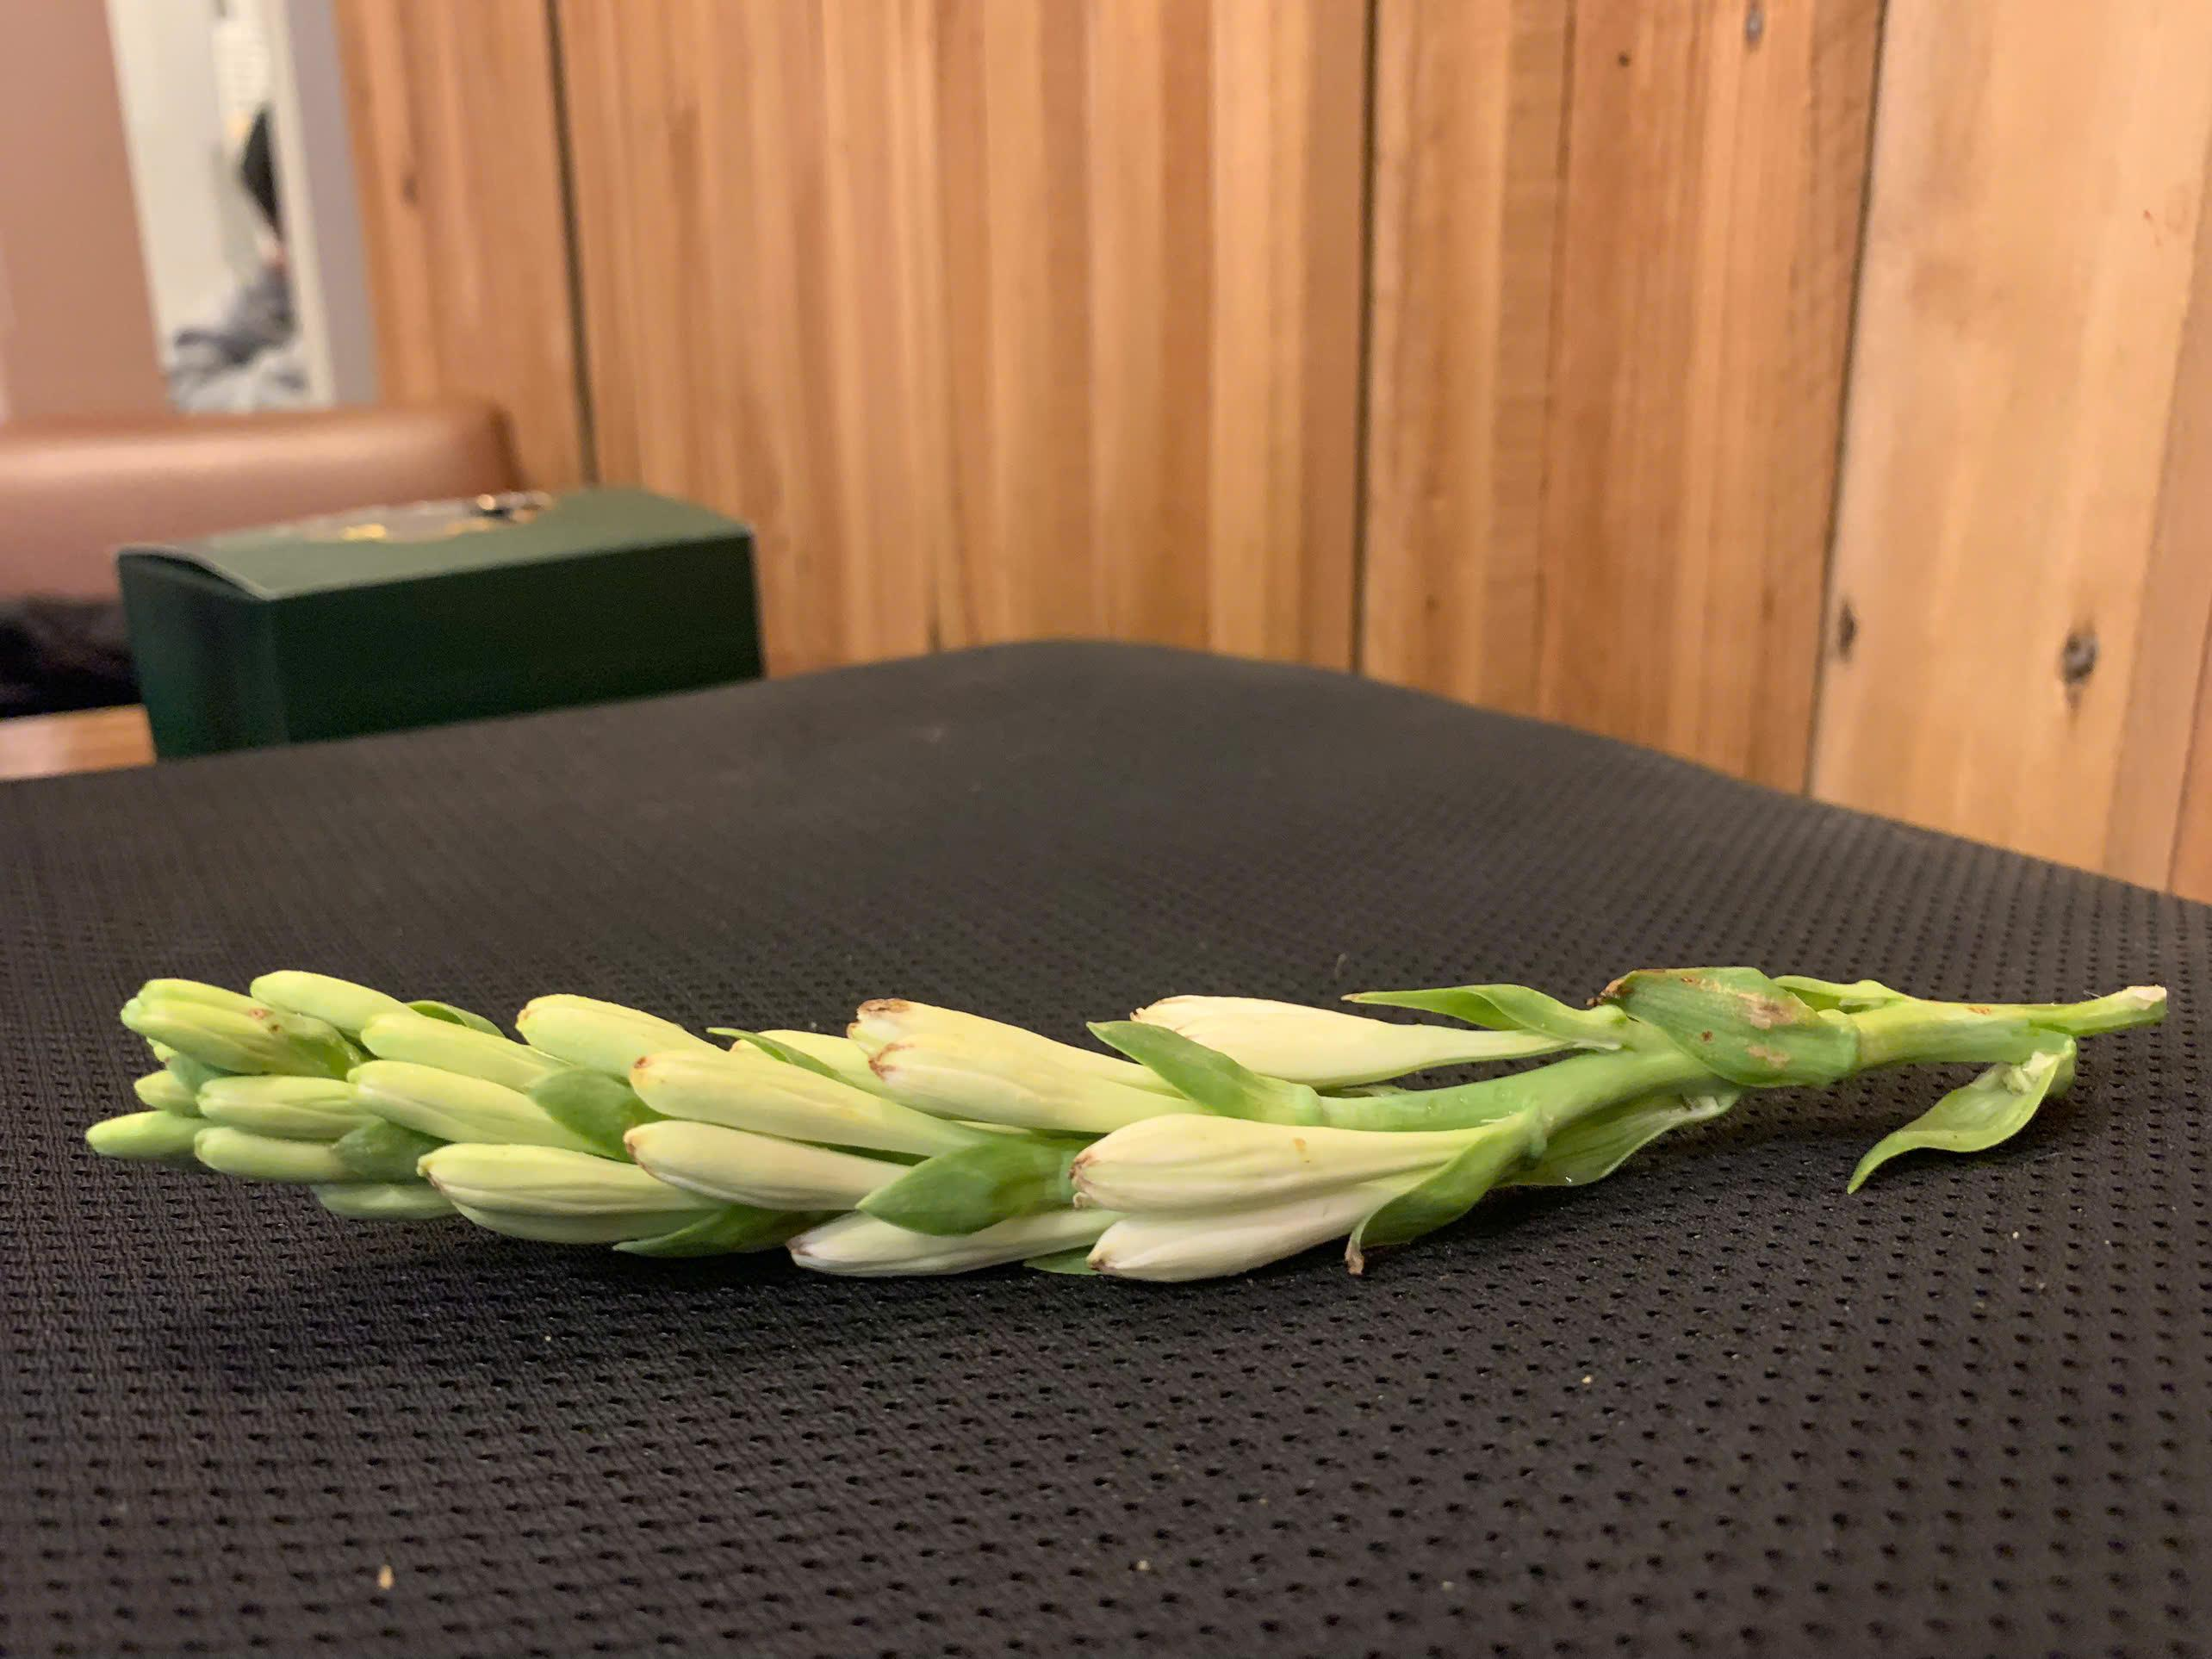Huu co: (84, 962, 2195, 1274)
